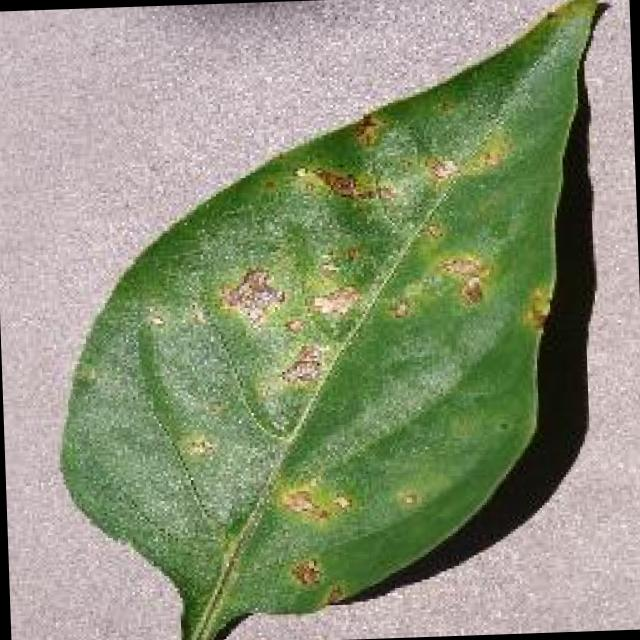Chilli_Bacterial_Spot: (39, 0, 631, 640), (173, 110, 558, 610), (204, 123, 530, 404), (210, 254, 368, 396), (286, 155, 398, 211), (212, 262, 288, 332), (273, 472, 355, 530), (430, 249, 495, 311), (274, 338, 328, 392), (304, 278, 363, 322), (309, 161, 363, 203), (516, 280, 555, 334), (419, 148, 463, 188), (348, 108, 384, 152), (276, 483, 320, 519), (284, 552, 324, 591), (176, 429, 218, 465), (453, 272, 487, 308), (390, 482, 424, 512)
